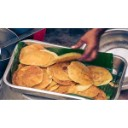dosa: (21, 44, 88, 92)
